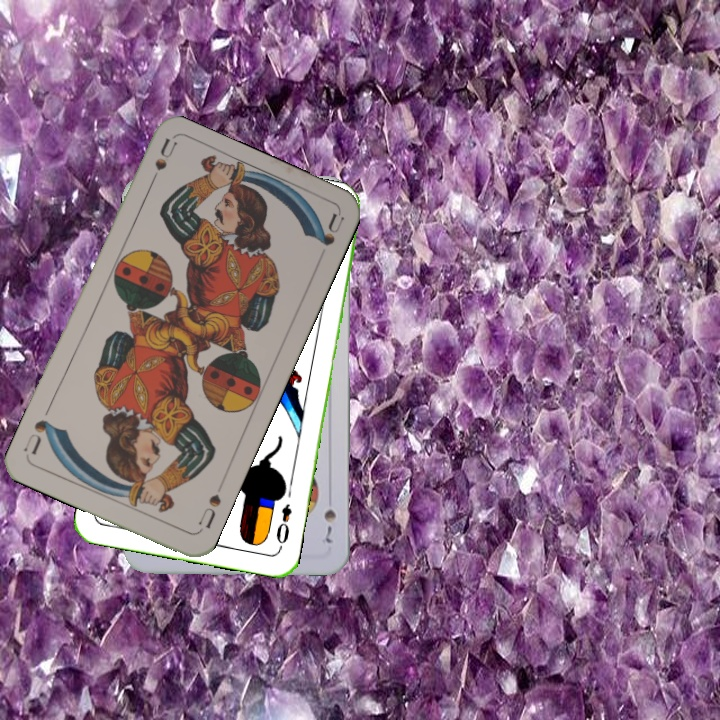EO: (272, 500, 294, 552)
S7: (319, 505, 338, 546)
SU: (143, 137, 179, 194), (194, 489, 224, 535)
